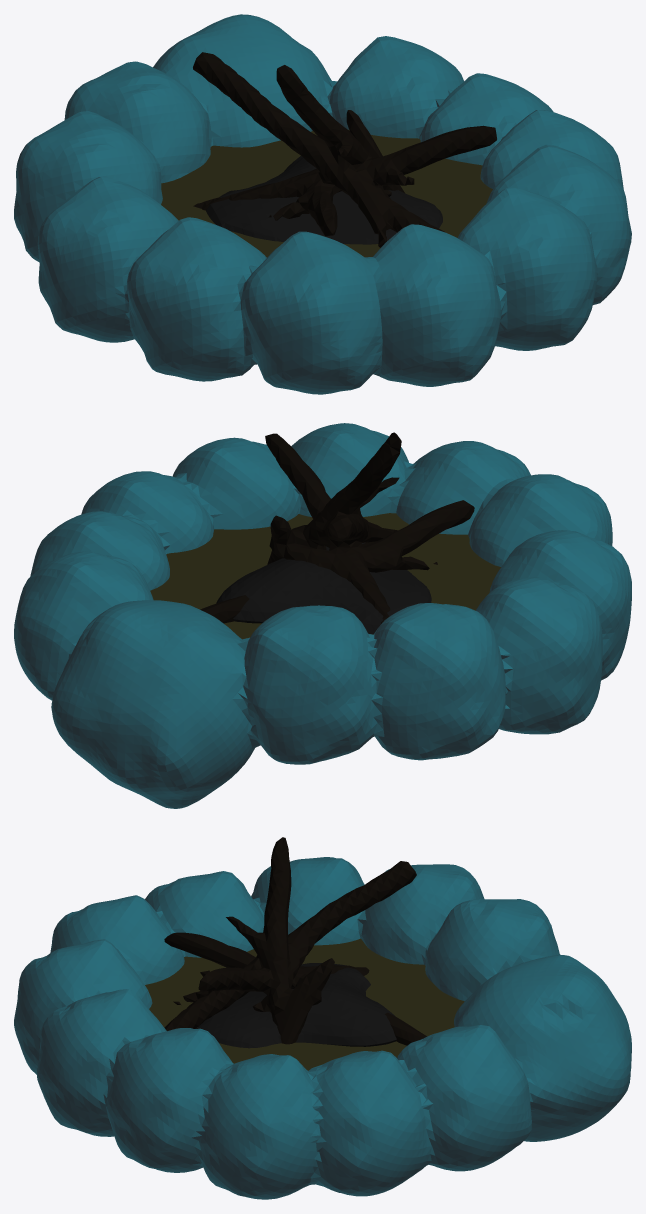
The model's file is Feuer.fbx.
The picture shows the model from 3 angles, top to bottom: view 1: azimuth 30°, elevation 25°; view 2: azimuth 150°, elevation 25°; view 3: azimuth 270°, elevation 25°; orthographic projection. The views are drawn at different scales.
Parts seen in each view (by area): view 1: instance_mesh_2, instance_mesh_1, instance_mesh_3, instance_mesh; view 2: instance_mesh_2, instance_mesh_1, instance_mesh_3, instance_mesh; view 3: instance_mesh_2, instance_mesh_1, instance_mesh_3, instance_mesh.
Boxes of the visible parts, x1,y1,x2,y2 form: instance_mesh_2: (14, 14, 631, 394); instance_mesh_1: (193, 52, 496, 247); instance_mesh_3: (161, 129, 492, 257); instance_mesh: (206, 155, 442, 244); instance_mesh_2: (14, 423, 631, 808); instance_mesh_1: (200, 432, 474, 623); instance_mesh_3: (150, 513, 500, 639); instance_mesh: (216, 542, 431, 634); instance_mesh_2: (14, 857, 631, 1199); instance_mesh_1: (164, 837, 426, 1045); instance_mesh_3: (145, 938, 464, 1070); instance_mesh: (195, 963, 396, 1048).
Size of the model in its own units: 0.0995 by 0.0503 by 0.1063.
